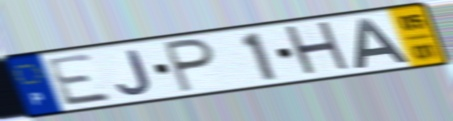1: (240, 30, 280, 83)
A: (353, 17, 412, 71)
E: (43, 51, 116, 108)
H: (280, 19, 356, 80)
J: (115, 48, 155, 97)
P: (161, 36, 218, 95)
